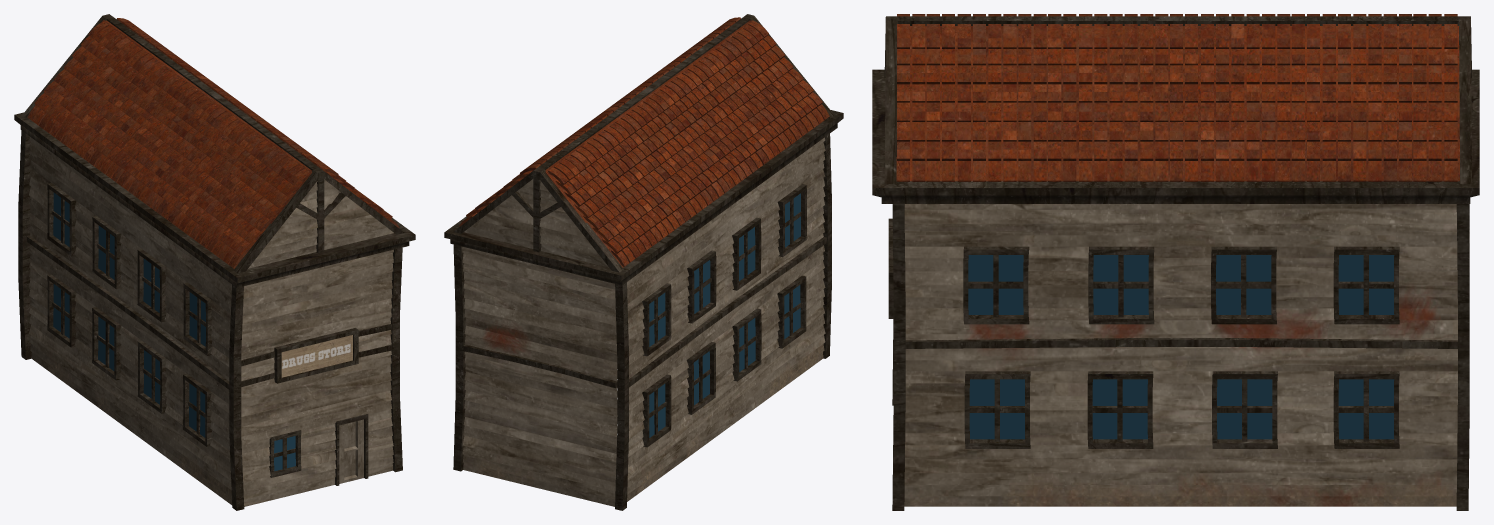
Rendered from Drug Store.fbx.
3 renders of one model, left to right at view 1: azimuth 30°, elevation 25°; view 2: azimuth 150°, elevation 25°; view 3: azimuth 270°, elevation 25°, orthographic. The views are drawn at different scales.
Visible parts, largest first — view 1: pCube177; view 2: pCube177; view 3: pCube177.
Part boxes in pixels (<box>): pCube177: <box>14,14,415,510</box>; pCube177: <box>444,14,843,510</box>; pCube177: <box>872,14,1479,510</box>.
Size of the model in its own units: 5.46 by 9.4 by 11.85.
